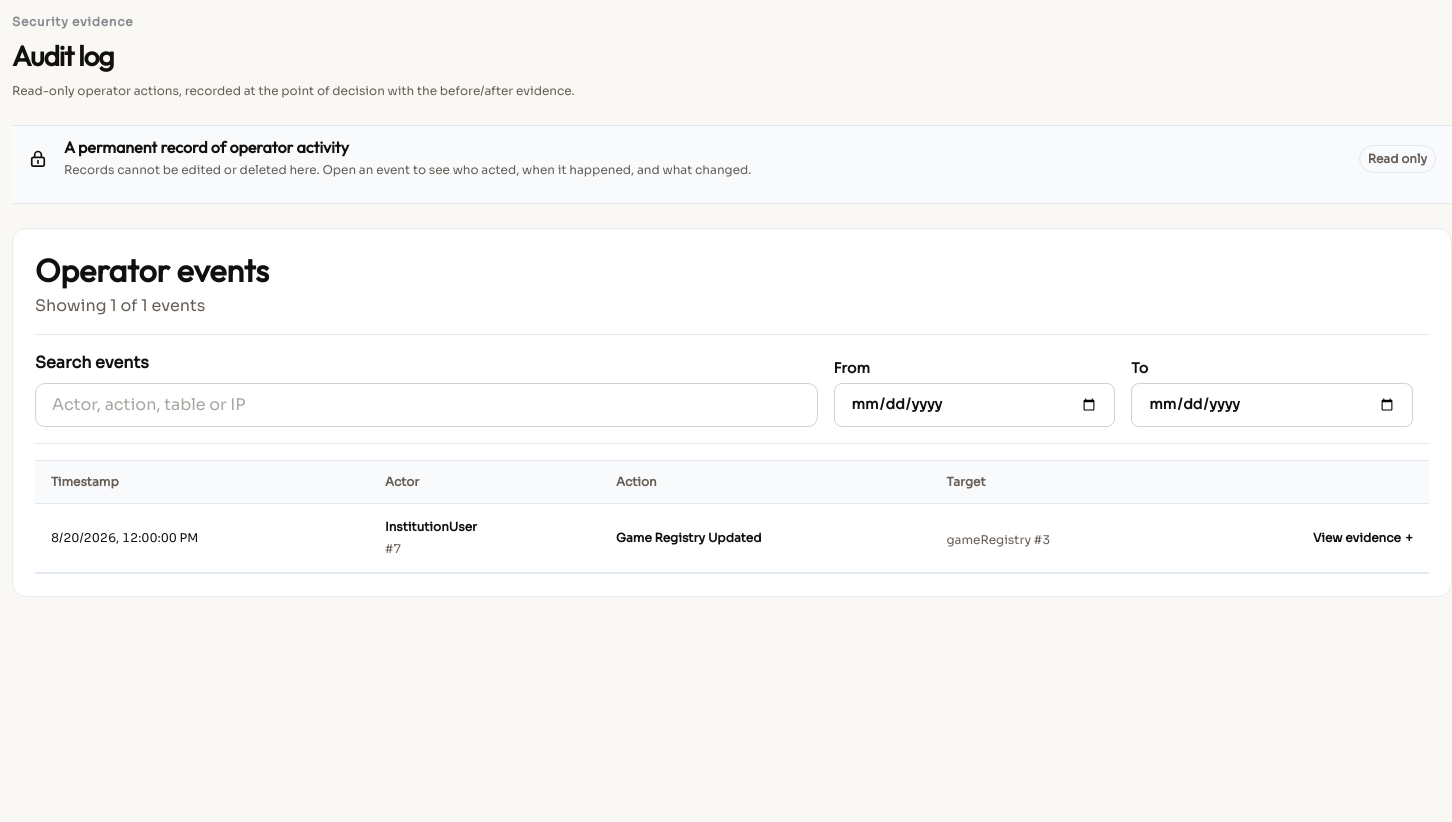
Test: AuditLog › filters client-side by actor, action or target
The image size is (1452, 822).
Expected: the column heading "Game Registry Updated" is shown, [600, 504, 930, 572]
Type "no-match-at-all" into the search field labelled "Search events".
click(426, 404); type("no-match-at-all")  # box [35, 382, 818, 426]
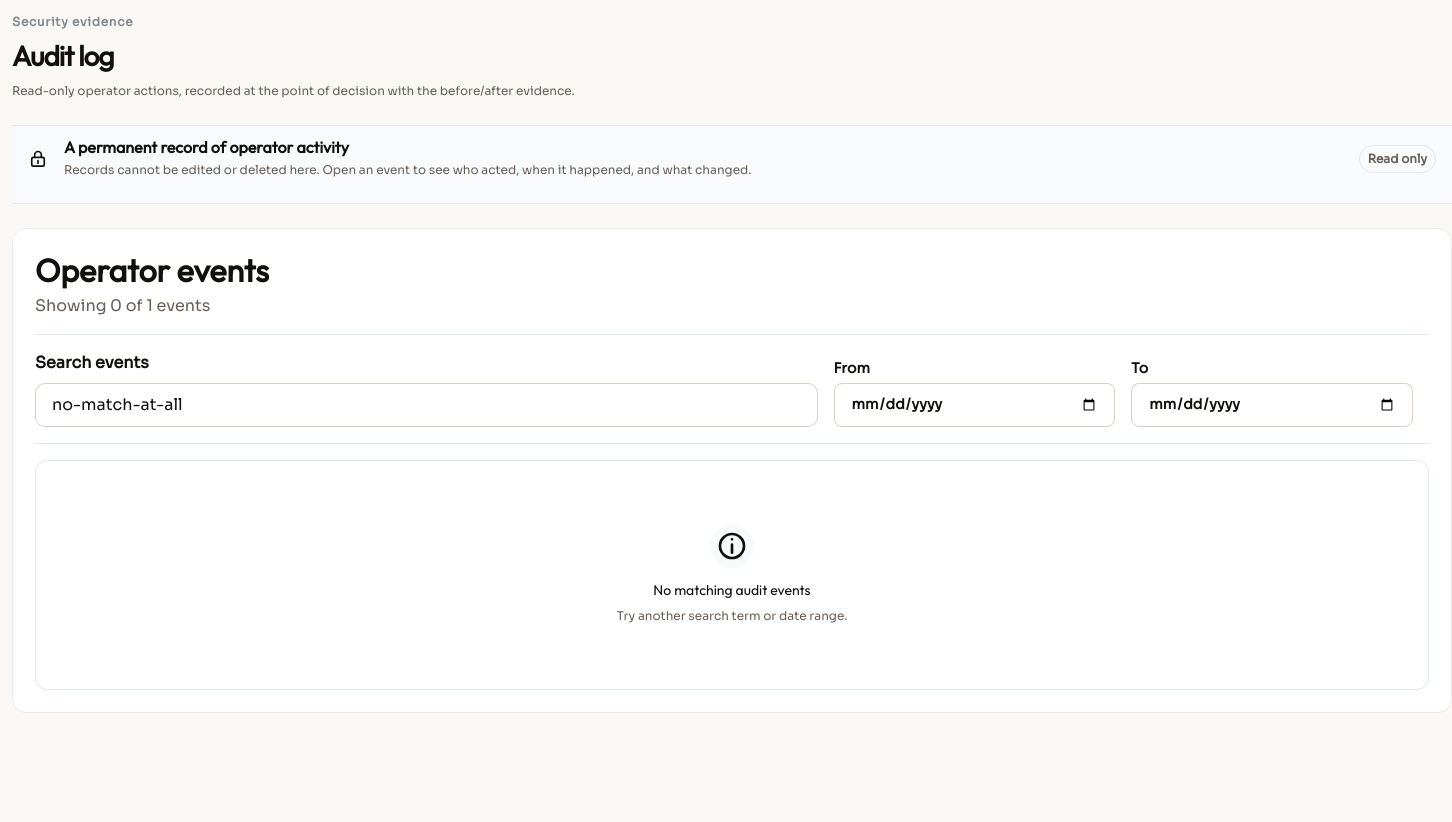
Expected: the heading "No matching audit events" is shown, [653, 580, 811, 598]
